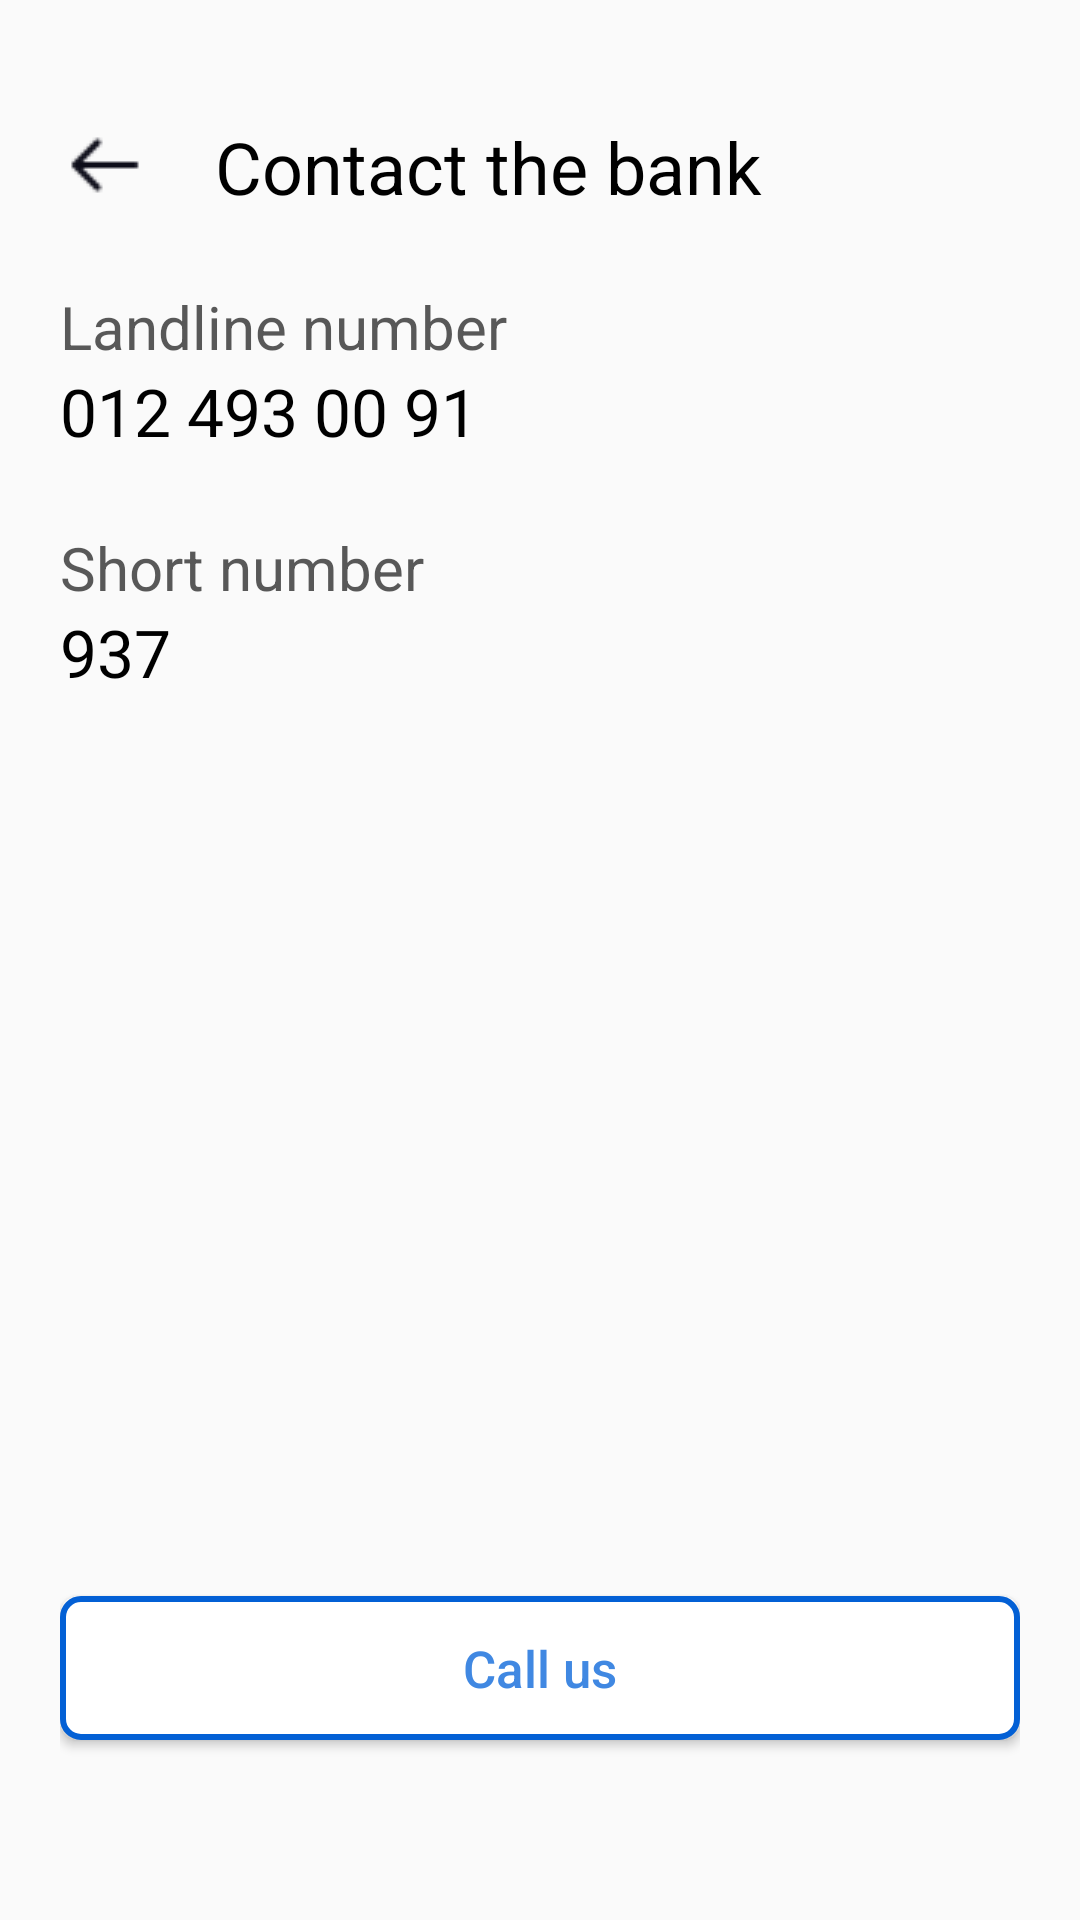

Icon bounding boxes for this 1080x1920 phone screenshot, format (x1, y1, x2, y2):
left: (71, 137, 139, 193)
